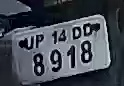1: (66, 45, 78, 70), (50, 30, 59, 45)
4: (58, 28, 68, 45)
8: (79, 39, 94, 66), (33, 51, 46, 79)
9: (49, 48, 64, 72)
D: (69, 24, 81, 41), (81, 22, 93, 37)
P: (34, 33, 45, 50)
U: (24, 36, 35, 51)
